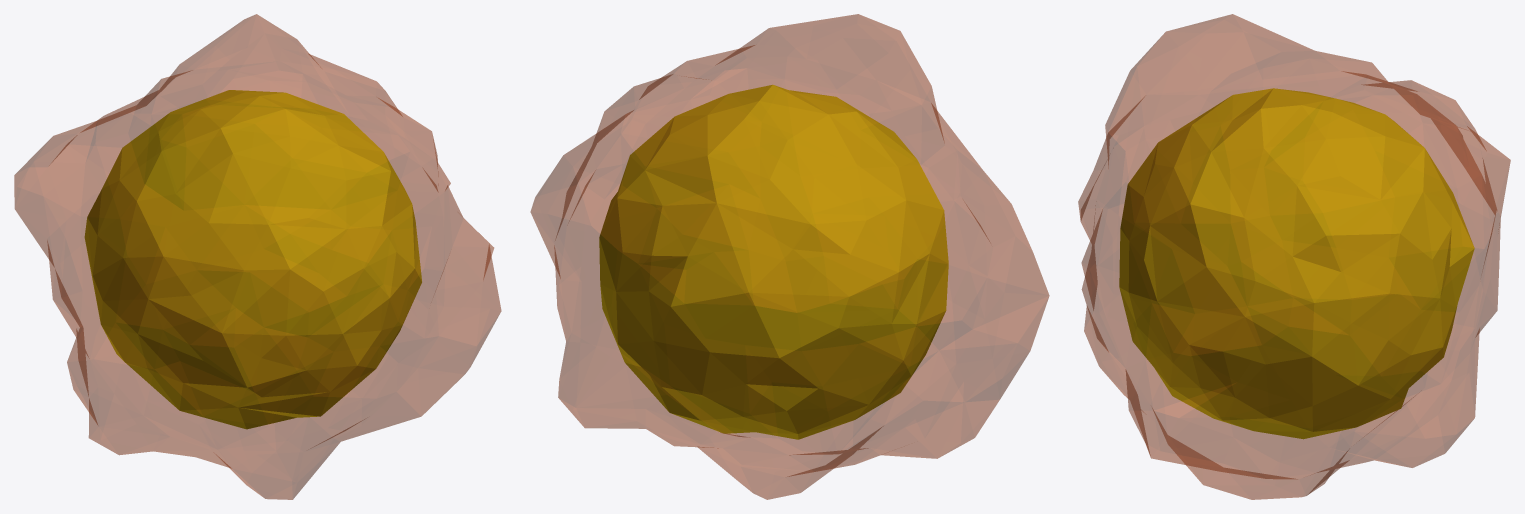
The model's file is gas_01.obj.
3 renders of one model, left to right at view 1: azimuth 30°, elevation 25°; view 2: azimuth 150°, elevation 25°; view 3: azimuth 270°, elevation 25°, orthographic. The views are drawn at different scales.
Parts seen in each view (by area): view 1: gas_planet4_cloud1, gas_planet4_cloud; view 2: gas_planet4_cloud1, gas_planet4_cloud; view 3: gas_planet4_cloud1, gas_planet4_cloud.
Boxes of the visible parts, bbox=[...] form: gas_planet4_cloud1: bbox=[14, 14, 501, 499]; gas_planet4_cloud: bbox=[84, 90, 421, 429]; gas_planet4_cloud1: bbox=[530, 14, 1049, 499]; gas_planet4_cloud: bbox=[599, 84, 948, 439]; gas_planet4_cloud1: bbox=[1078, 14, 1510, 499]; gas_planet4_cloud: bbox=[1119, 88, 1474, 439].
Bounding box in the file's own units: 2.73 × 2.73 × 2.45.
